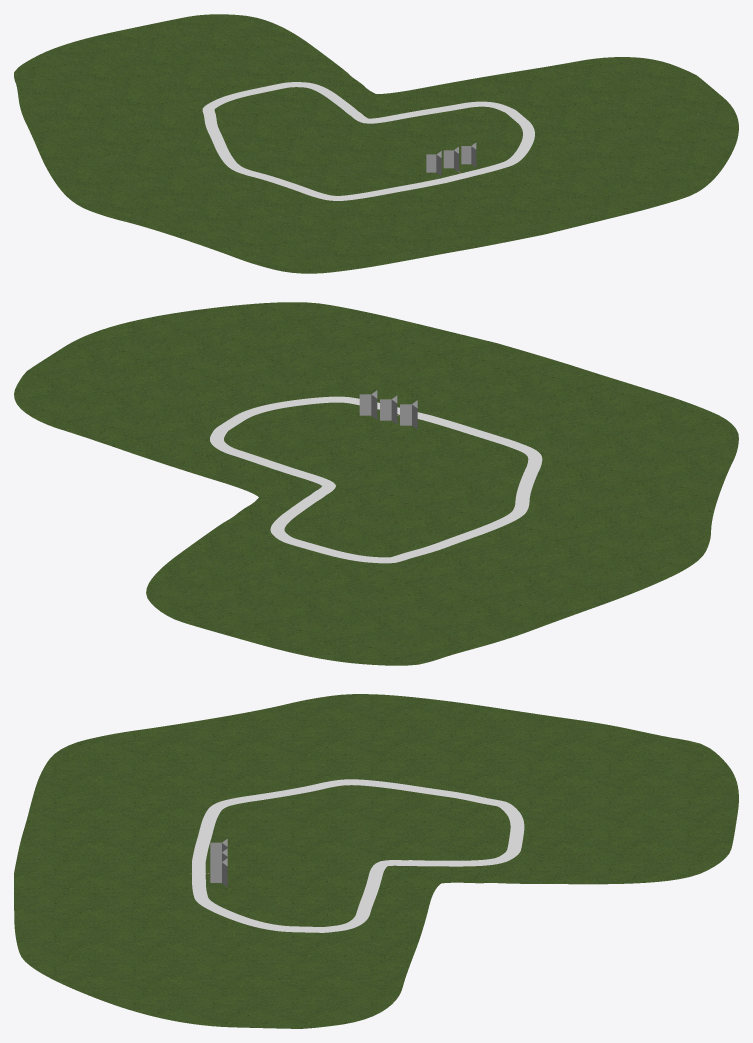
The model's file is AC-CIRCUIT.dae.
3 renders of one model, top to bottom at view 1: azimuth 30°, elevation 25°; view 2: azimuth 150°, elevation 25°; view 3: azimuth 270°, elevation 25°, orthographic. The views are drawn at different scales.
Parts seen in each view (by area): view 1: 1GRASS0, 1ROAD0; view 2: 1GRASS0, 1ROAD0; view 3: 1GRASS0, 1ROAD0.
Boxes of the visible parts, bbox=[...] form: 1GRASS0: bbox=[14, 14, 738, 273]; 1ROAD0: bbox=[202, 82, 534, 200]; 1GRASS0: bbox=[14, 302, 738, 665]; 1ROAD0: bbox=[210, 396, 542, 563]; 1GRASS0: bbox=[14, 694, 738, 1028]; 1ROAD0: bbox=[192, 779, 524, 932].
Size of the model in its own units: 689 by 630 by 21.46.
